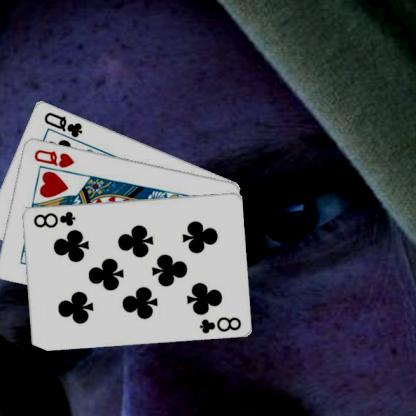8C: (32, 208, 78, 229), (198, 314, 244, 334)
QC: (42, 108, 86, 138)
QH: (33, 146, 78, 169)
